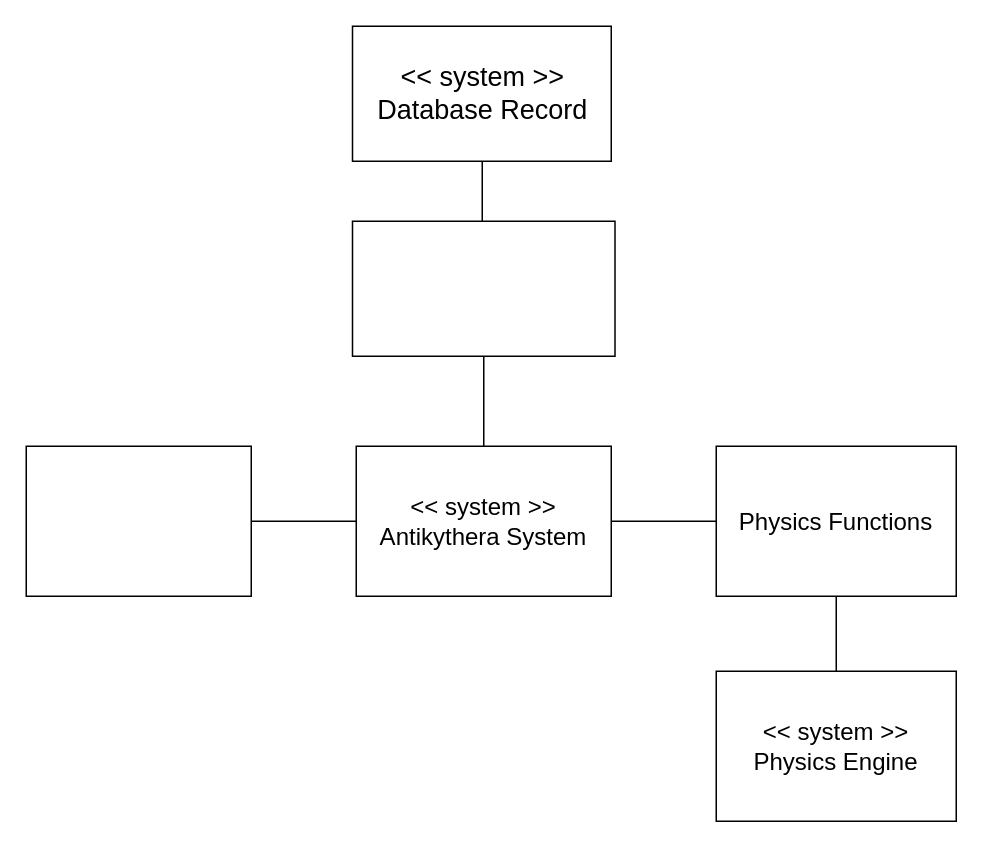
Image size: 983x848. Some labels were removed from this diagram. The centre of each missing label's shape, as x and y in pixels:
"<< system >> GUI" goes at (x=138, y=520).
"Search/Sorting Functions" goes at (x=483, y=288).
